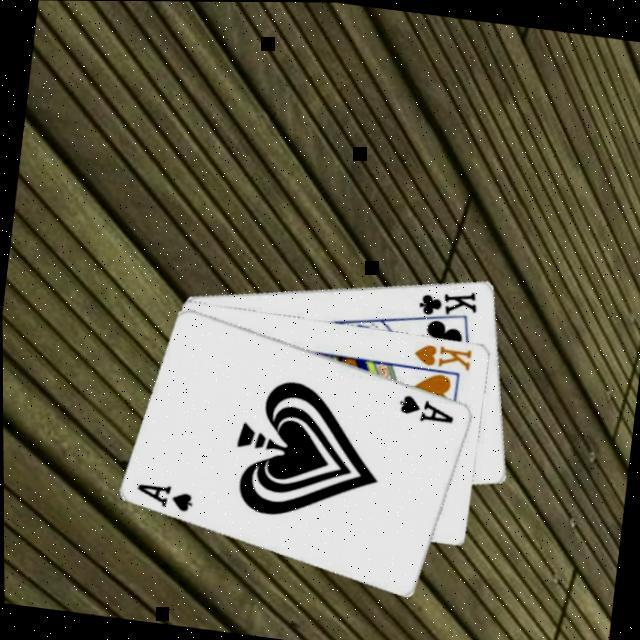AS: (132, 476, 197, 514), (396, 389, 460, 426)
KC: (411, 280, 482, 329)
KH: (410, 338, 476, 372)
